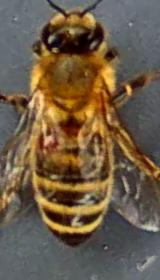varroa_mite: (36, 120, 66, 156)
